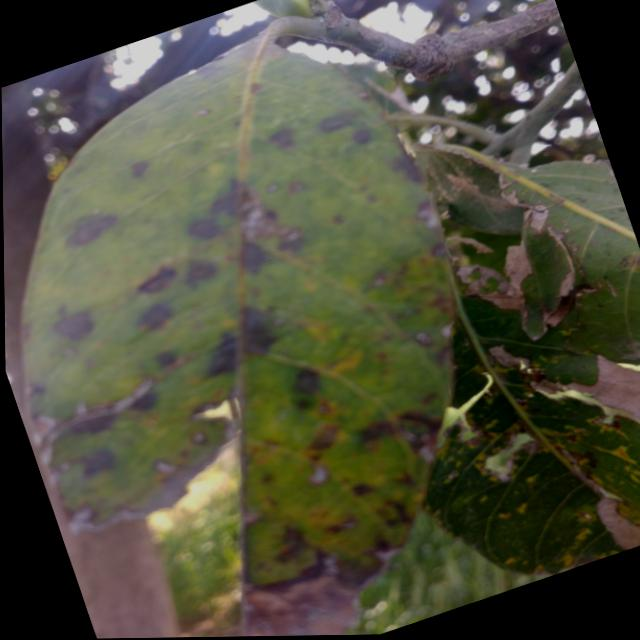Anthracnose: (187, 163, 301, 269), (59, 197, 145, 268)
Bacterial Cancer: (455, 245, 540, 318)
